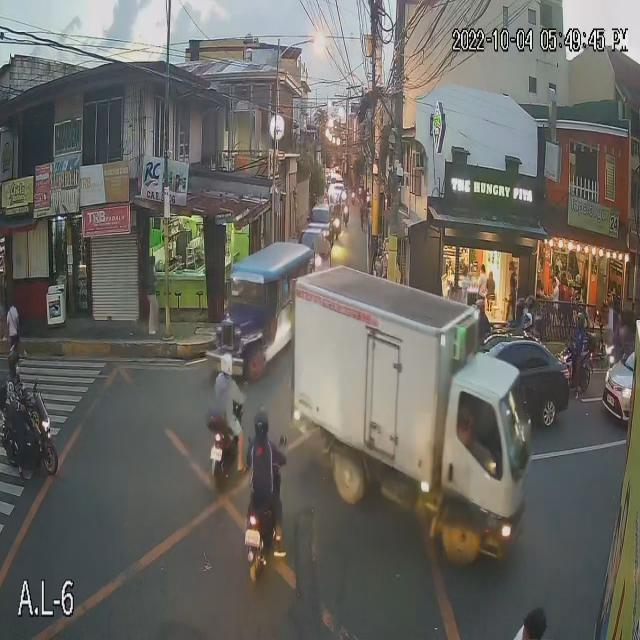helmet: (253, 411, 269, 432), (219, 356, 234, 373), (574, 314, 588, 328)
motorcycle: (0, 385, 59, 479), (243, 472, 287, 585), (205, 408, 250, 490), (552, 347, 597, 403)
rider: (246, 437, 284, 552), (210, 381, 246, 466), (0, 378, 30, 455), (564, 330, 591, 380)
